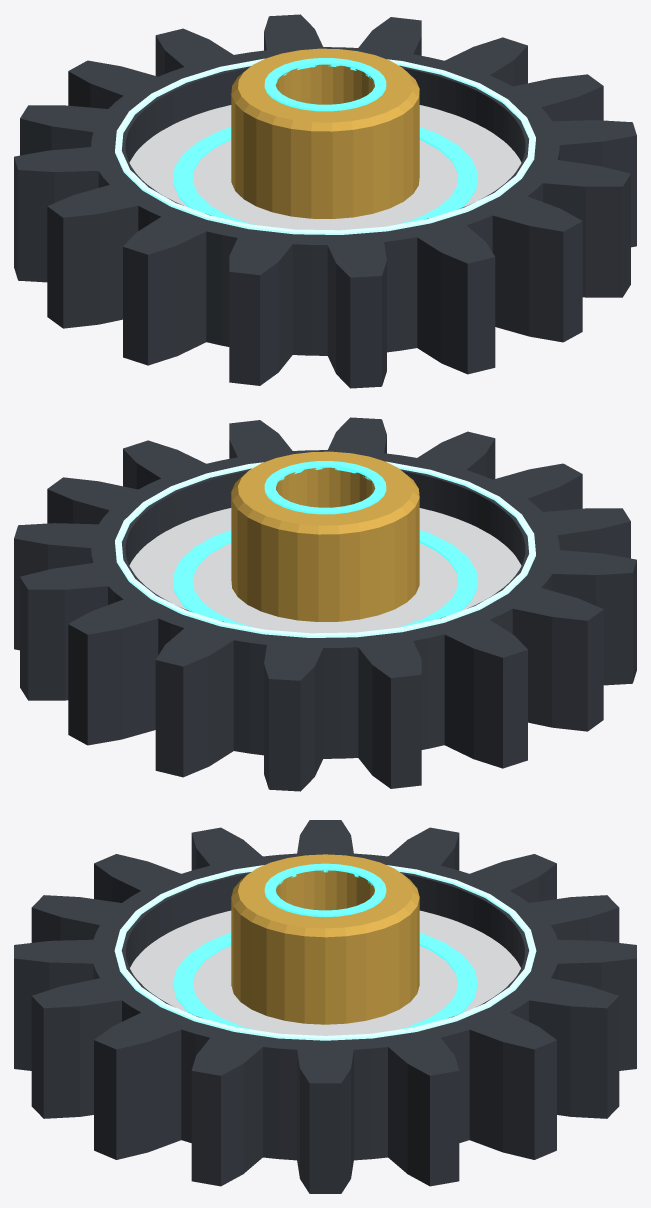
Rendered from gear_space.glb.
The picture shows the model from 3 angles, top to bottom: view 1: azimuth 30°, elevation 25°; view 2: azimuth 150°, elevation 25°; view 3: azimuth 270°, elevation 25°; orthographic projection.
Visible parts, largest first — view 1: gear_space; view 2: gear_space; view 3: gear_space.
Boxes of the visible parts, bbox=[...] form: gear_space: bbox=[14, 14, 636, 388]; gear_space: bbox=[14, 417, 636, 791]; gear_space: bbox=[14, 820, 636, 1193].
Size of the model in its own units: 0.1124 by 0.0344 by 0.1124.
